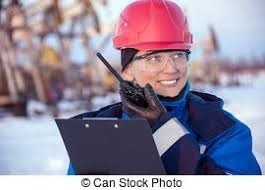helmet: (111, 1, 195, 54)
person with partial safety: (68, 1, 262, 175)
